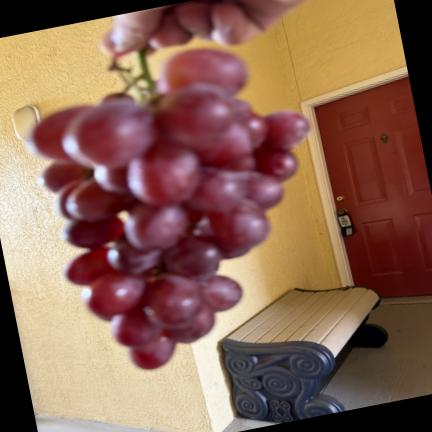grape_cluster: (30, 49, 309, 369)
